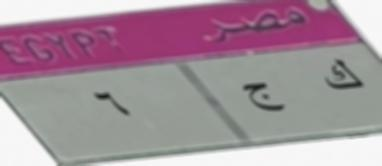6: (93, 84, 134, 128)
jeem: (238, 77, 286, 120)
kaaf: (326, 52, 363, 106)
